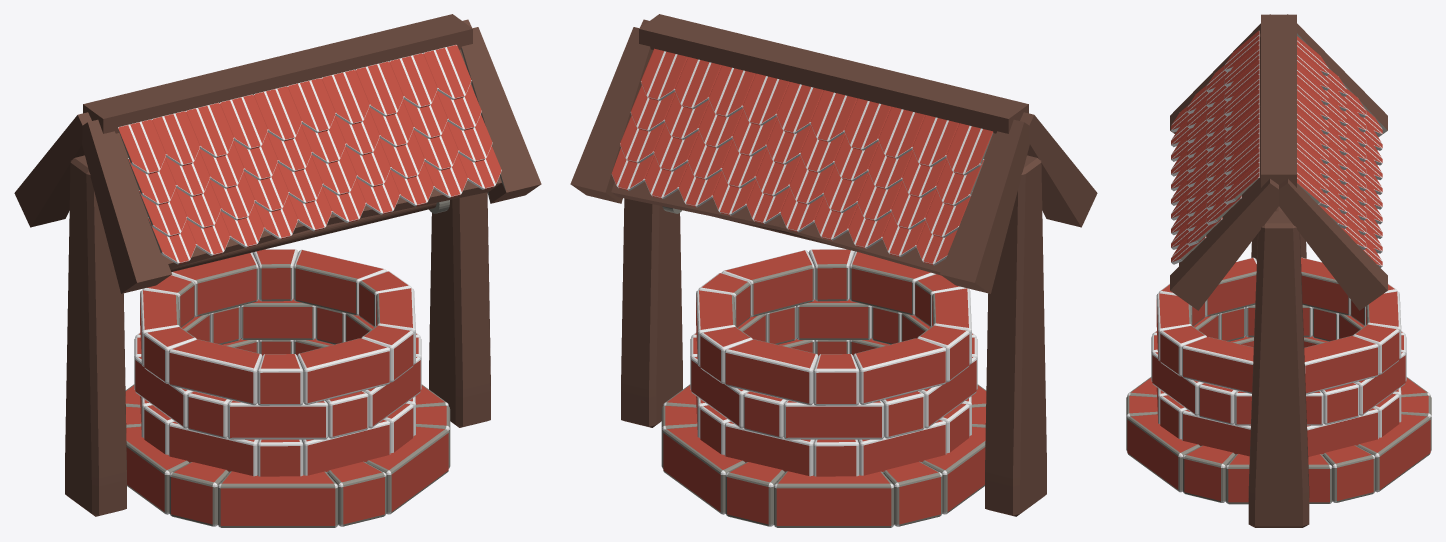
Rendered from Well.fbx.
3 views of the same model, side by side, from view 1: azimuth 30°, elevation 25°; view 2: azimuth 150°, elevation 25°; view 3: azimuth 270°, elevation 25° (orthographic). The views are drawn at different scales.
Visible parts, largest first — view 1: Cube; view 2: Cube; view 3: Cube.
Boxes of the visible parts, x1,y1,x2,y2 form: Cube: (14, 14, 541, 527); Cube: (570, 14, 1097, 527); Cube: (1126, 14, 1431, 527).
Bounding box in the file's own units: 2300 × 2136 × 1695.
